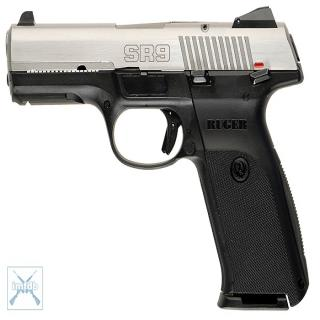gun: (6, 6, 310, 308)
